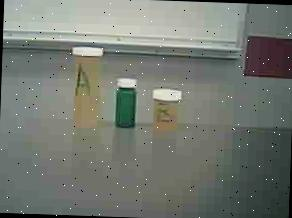Bottle A: (67, 44, 109, 134)
Bottle B: (147, 85, 188, 135)
Bottle C: (111, 73, 142, 132)
